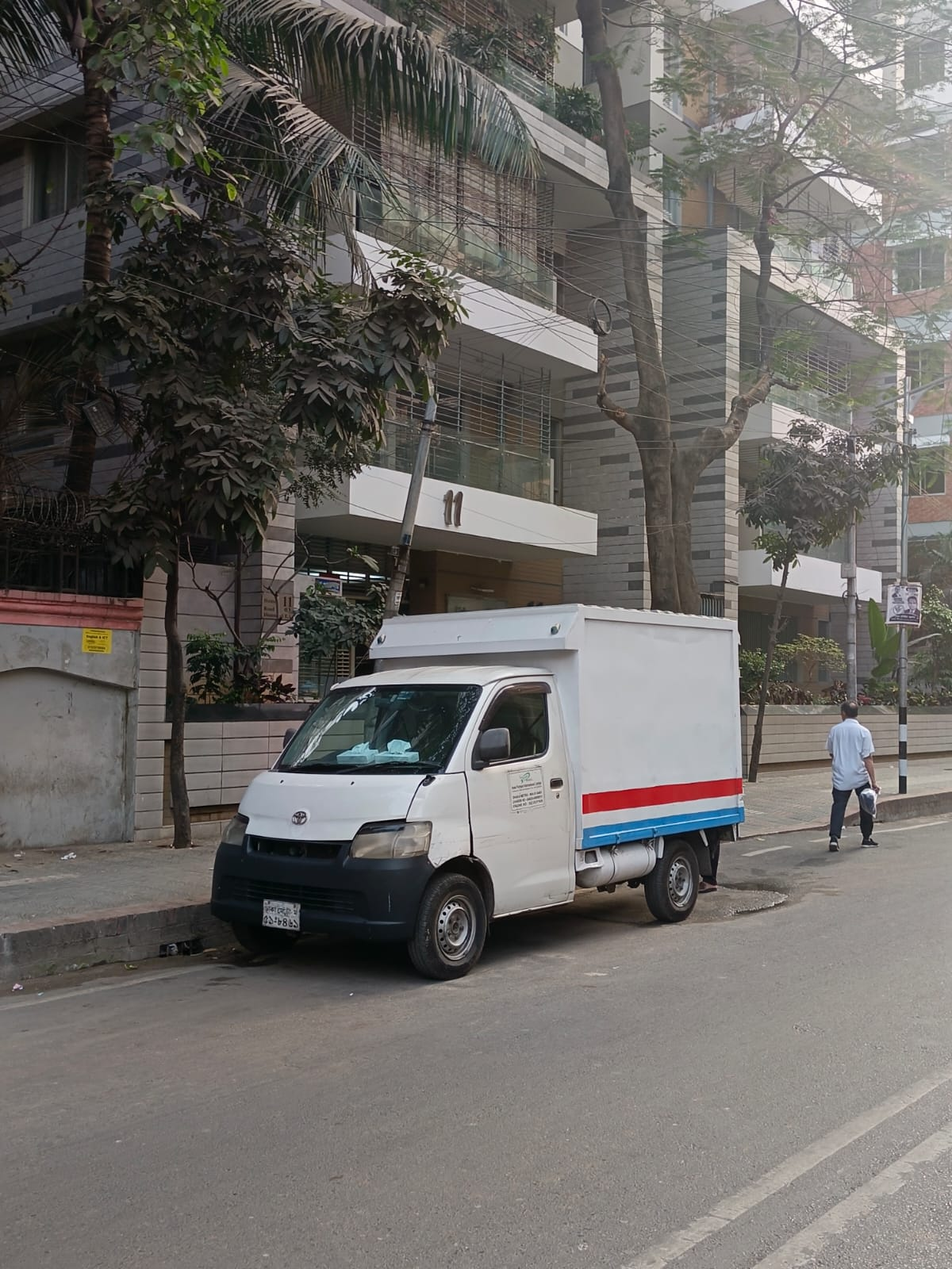Pickup: (243, 561, 764, 991)
